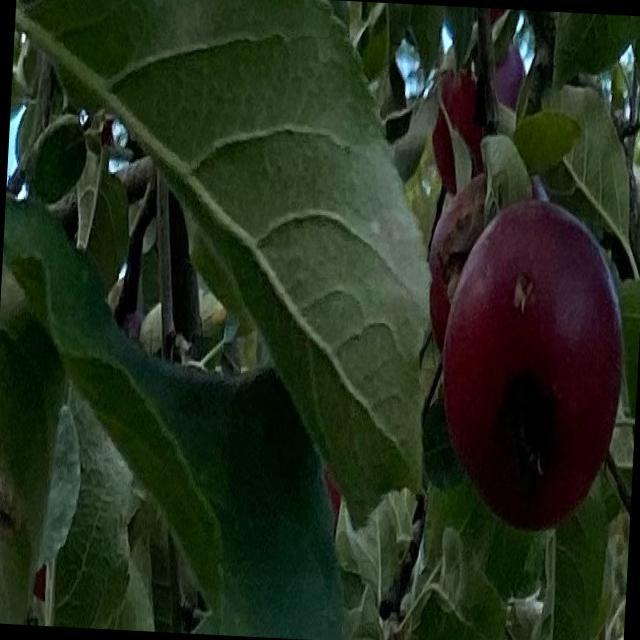100-_ripeness: (438, 197, 630, 528), (432, 38, 526, 184), (428, 168, 489, 346)
